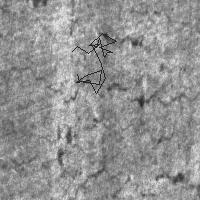crazing: (4, 112, 195, 199), (3, 35, 174, 101), (72, 33, 116, 93)
